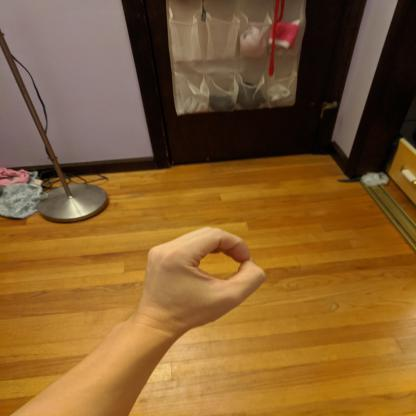O: (134, 224, 271, 332)
